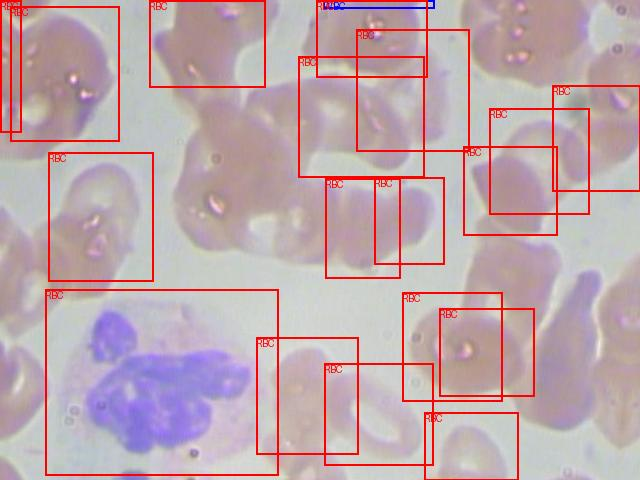RBC: (45, 289, 278, 475), (298, 56, 424, 177), (10, 6, 119, 141), (356, 29, 469, 151), (48, 152, 153, 281), (256, 337, 358, 454), (324, 363, 433, 465), (402, 292, 502, 401), (489, 108, 589, 214), (149, 0, 265, 87), (552, 85, 640, 191), (316, 0, 427, 77), (463, 146, 557, 235), (439, 308, 534, 396), (325, 178, 400, 278), (424, 412, 518, 480), (374, 177, 444, 264), (0, 0, 21, 132)
WBC: (323, 0, 434, 8)
